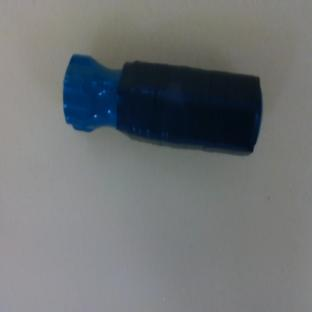part_2_bad: (57, 52, 266, 156)
